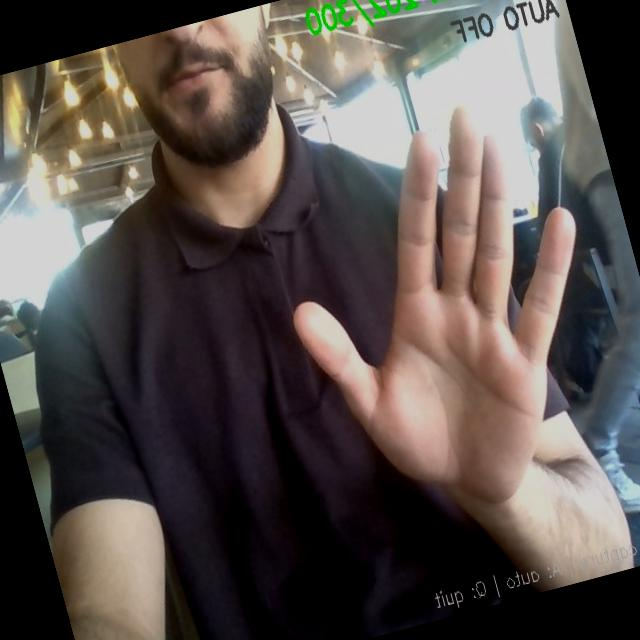Hand: (294, 109, 574, 503)
